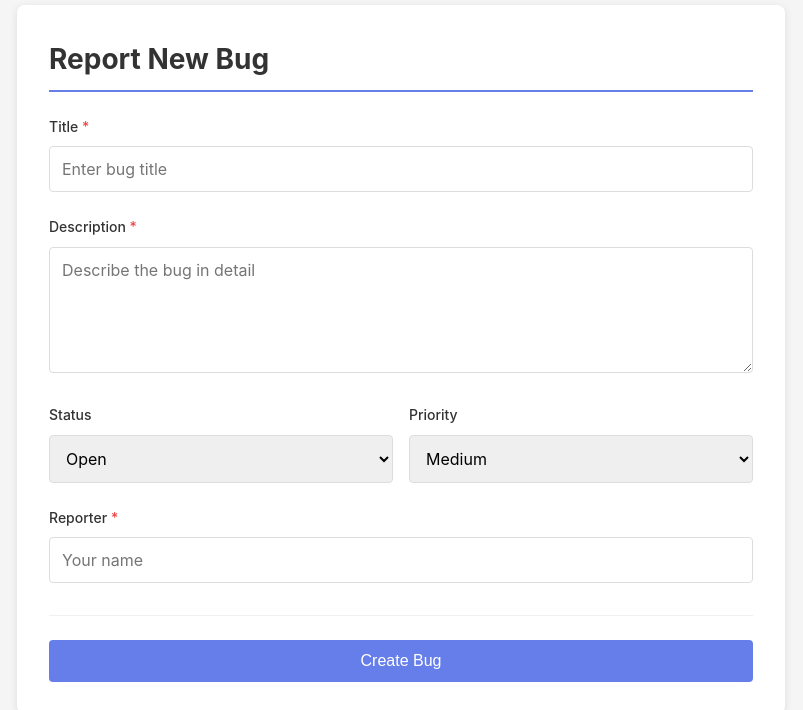
Scenario: BugForm Component › Form Validation › should show error when title is empty on submit
This screenshot has width=803, height=710.
Click the button "Create Bug" at (401, 661), box [49,640,753,682]
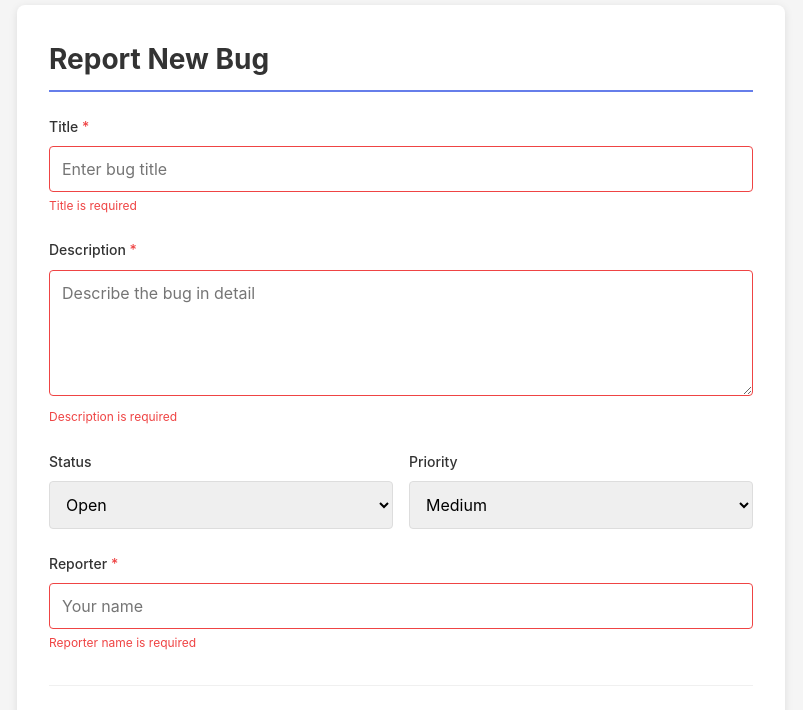
Expected: the text "Title is required" is shown, [49,198,137,213]
